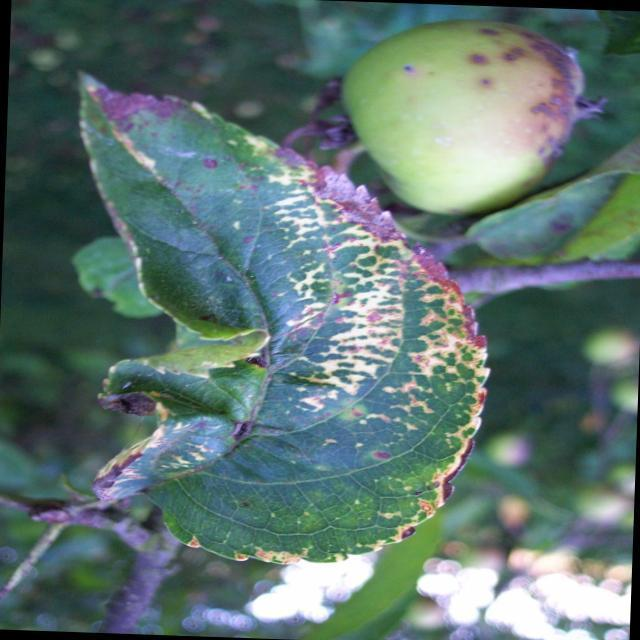Mosaic Virus: (208, 174, 470, 570)
